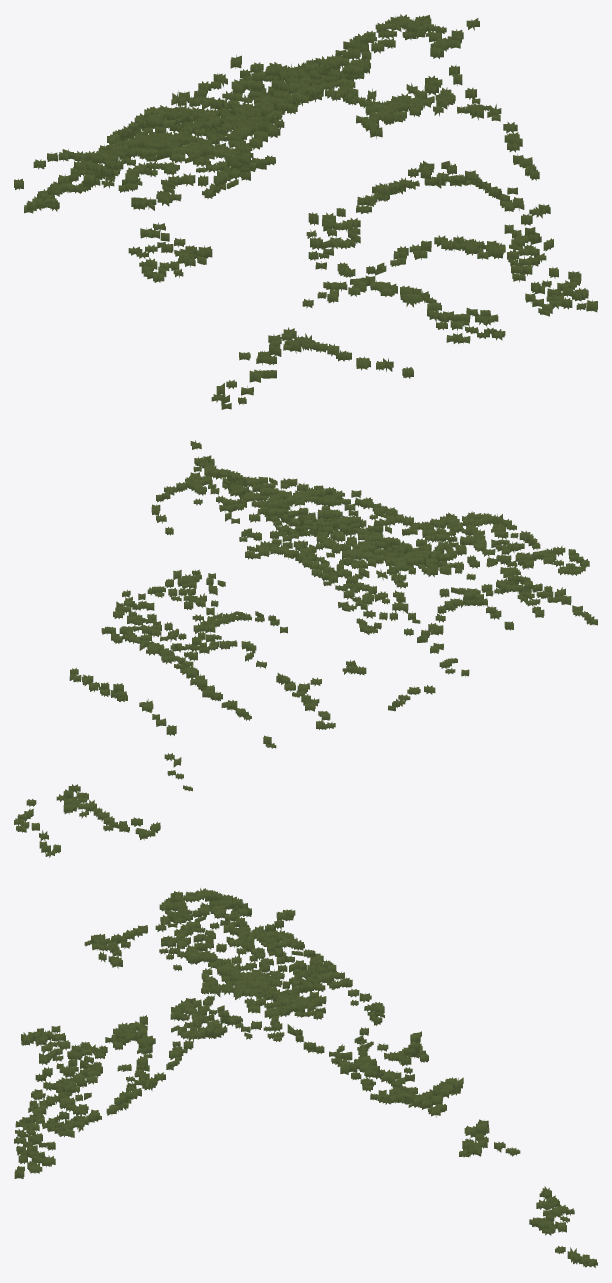
File: TRB8-GRASS-CHUNK-6-0.glb
3 views of the same model, one above another, from view 1: azimuth 30°, elevation 25°; view 2: azimuth 150°, elevation 25°; view 3: azimuth 270°, elevation 25° (orthographic). The views are drawn at different scales.
Parts seen in each view (by area): view 1: TRB8-GRASS-CHUNK-6-0; view 2: TRB8-GRASS-CHUNK-6-0; view 3: TRB8-GRASS-CHUNK-6-0.
Part boxes in pixels (bbox=[...]): TRB8-GRASS-CHUNK-6-0: bbox=[14, 14, 597, 409]; TRB8-GRASS-CHUNK-6-0: bbox=[14, 440, 597, 857]; TRB8-GRASS-CHUNK-6-0: bbox=[14, 888, 597, 1267].
Bounding box in the file's own units: 21.29 × 15.22 × 29.26.
Materials: 1 (1 with a texture image).
